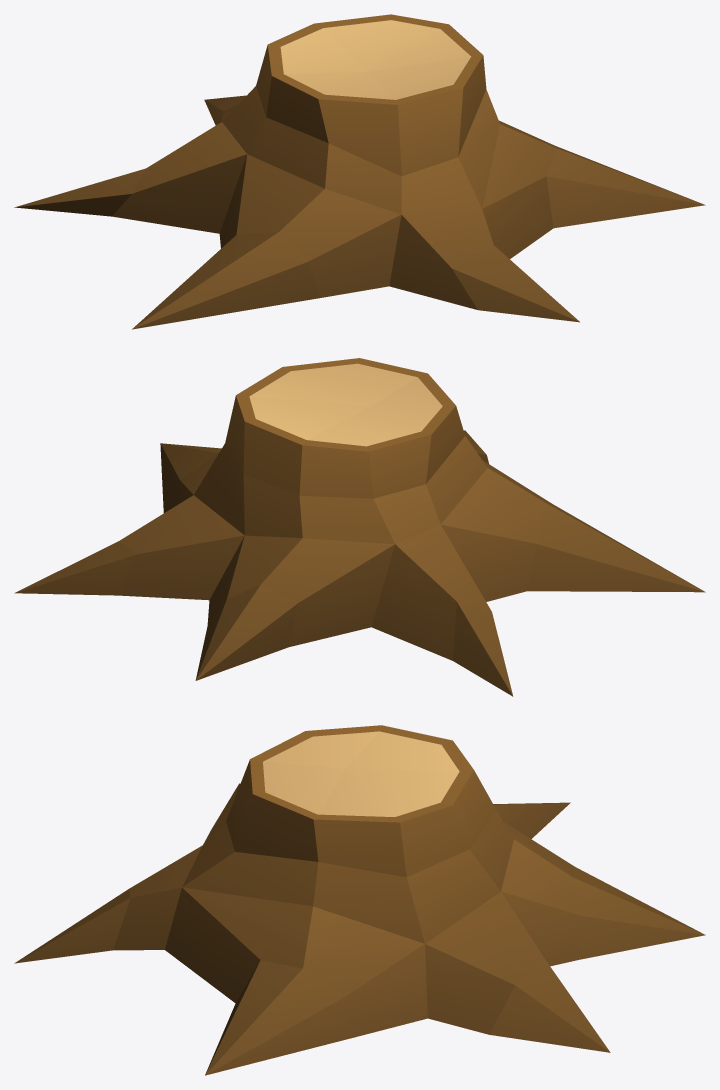
The model's file is tree5.fbx.
3 renders of one model, top to bottom at view 1: azimuth 30°, elevation 25°; view 2: azimuth 150°, elevation 25°; view 3: azimuth 270°, elevation 25°, orthographic. The views are drawn at different scales.
Parts seen in each view (by area): view 1: Stump_big_flat; view 2: Stump_big_flat; view 3: Stump_big_flat.
Part boxes in pixels (<box>): Stump_big_flat: <box>14,14,705,329</box>; Stump_big_flat: <box>14,358,705,696</box>; Stump_big_flat: <box>14,725,705,1075</box>.
Size of the model in its own units: 21.91 by 5.81 by 21.9.
1 material, 1 textured.
